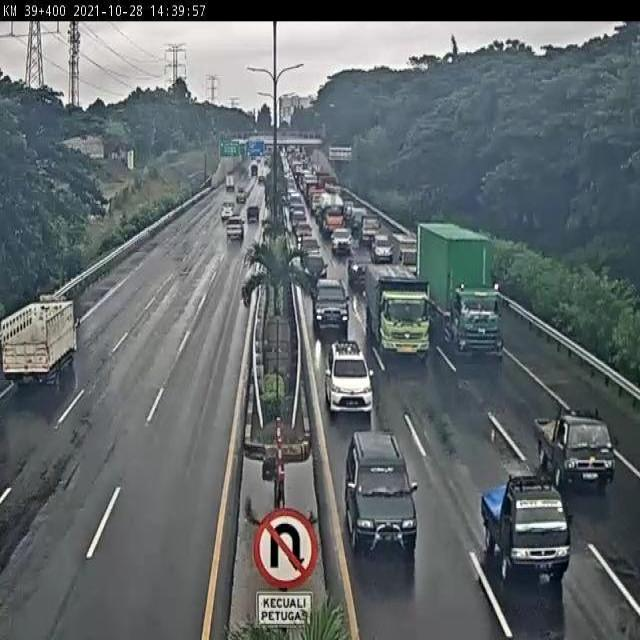ARABA: (480, 475, 572, 580), (344, 433, 413, 548), (534, 409, 617, 488), (323, 340, 374, 413), (311, 279, 349, 328), (302, 251, 326, 285), (359, 213, 381, 247), (348, 249, 370, 280), (372, 232, 394, 259), (330, 225, 349, 251)
KAMYONET: (0, 290, 82, 386), (392, 231, 420, 268)
TIR: (418, 222, 495, 350), (364, 264, 426, 348)
